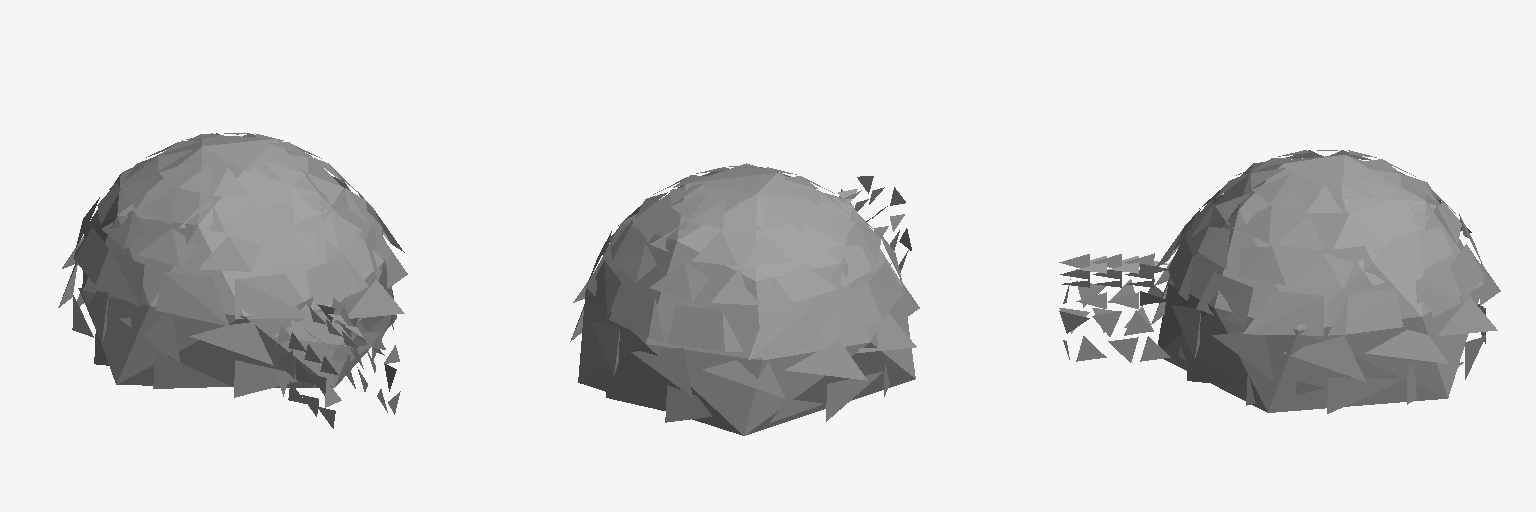
File: igloo0.1.obj
3 views of the same model, side by side, from view 1: azimuth 30°, elevation 25°; view 2: azimuth 150°, elevation 25°; view 3: azimuth 270°, elevation 25° (orthographic).
Parts seen in each view (by area): view 1: igloo; view 2: igloo; view 3: igloo.
Part boxes in pixels (bbox=[...]): igloo: bbox=[58, 133, 407, 428]; igloo: bbox=[570, 163, 919, 435]; igloo: bbox=[1059, 150, 1500, 413].
Bounding box in the file's own units: 4.04 × 2.32 × 5.1.